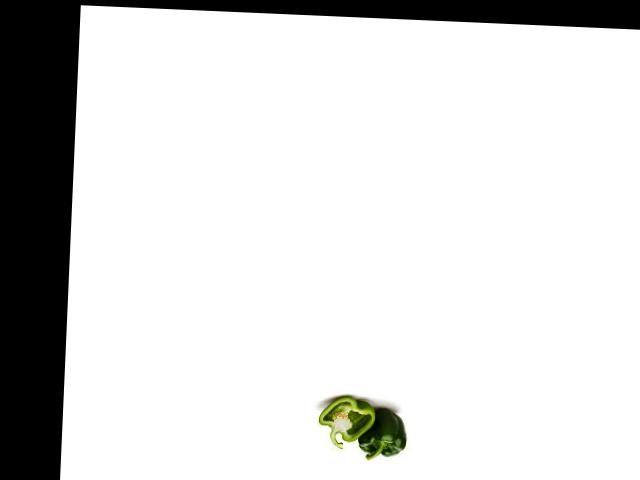bell_pepper: (314, 396, 378, 452)
